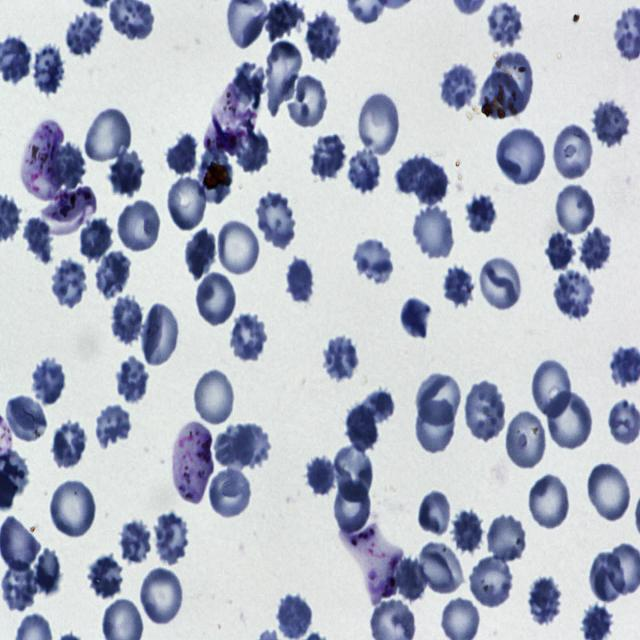red blood cell: (495, 125, 548, 187), (48, 476, 99, 540), (83, 106, 134, 167), (546, 388, 594, 452), (586, 459, 632, 525), (138, 565, 186, 627), (463, 379, 508, 444), (504, 407, 548, 472), (216, 216, 262, 278), (476, 252, 522, 313), (417, 540, 467, 595), (116, 197, 164, 254), (266, 41, 302, 117), (530, 357, 573, 420), (192, 368, 237, 427), (528, 472, 572, 532), (493, 52, 534, 116), (417, 371, 463, 428), (254, 191, 300, 248), (163, 173, 208, 231), (395, 156, 448, 205), (413, 201, 457, 260), (284, 73, 330, 129), (551, 122, 593, 183), (468, 554, 515, 608), (332, 443, 375, 502), (554, 181, 598, 237), (195, 270, 238, 327), (143, 302, 180, 368), (333, 477, 373, 538), (209, 466, 252, 522), (360, 93, 399, 154), (552, 268, 596, 321), (486, 512, 529, 566), (4, 396, 48, 446), (415, 399, 455, 453), (480, 71, 524, 119), (151, 512, 191, 564), (352, 239, 396, 286), (304, 12, 342, 65), (196, 149, 234, 202), (438, 64, 478, 113), (106, 149, 146, 198), (32, 43, 66, 100), (346, 144, 384, 194), (345, 400, 380, 453), (164, 129, 201, 179), (2, 562, 38, 613), (578, 224, 616, 272), (64, 13, 105, 57), (52, 417, 88, 467), (526, 577, 562, 627), (108, 295, 144, 345), (234, 423, 272, 470), (116, 517, 154, 563), (590, 550, 624, 601), (94, 249, 130, 297), (418, 489, 453, 538), (322, 336, 360, 381), (214, 423, 252, 468), (78, 215, 114, 262), (229, 315, 266, 360), (594, 100, 630, 146), (50, 260, 85, 307), (393, 556, 428, 603), (278, 591, 312, 639), (185, 226, 217, 277), (309, 133, 346, 177), (266, 0, 304, 42), (95, 404, 132, 447), (234, 128, 268, 174), (23, 217, 54, 267), (488, 2, 523, 46), (32, 357, 65, 402), (452, 510, 487, 552), (89, 554, 123, 597), (116, 356, 148, 401), (55, 142, 85, 190), (232, 61, 266, 103), (443, 266, 475, 309), (399, 298, 432, 339), (286, 257, 314, 305), (34, 550, 61, 598), (360, 388, 394, 424), (466, 194, 496, 234), (304, 456, 334, 496), (546, 232, 576, 270)
schizont: (40, 186, 98, 236)
trophozoite: (338, 525, 404, 606), (203, 86, 257, 156), (22, 118, 65, 200), (172, 422, 213, 504)
